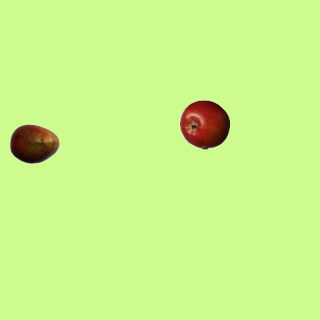Apple Braeburn: (179, 99, 229, 149)
Mango Red: (9, 118, 59, 168)
